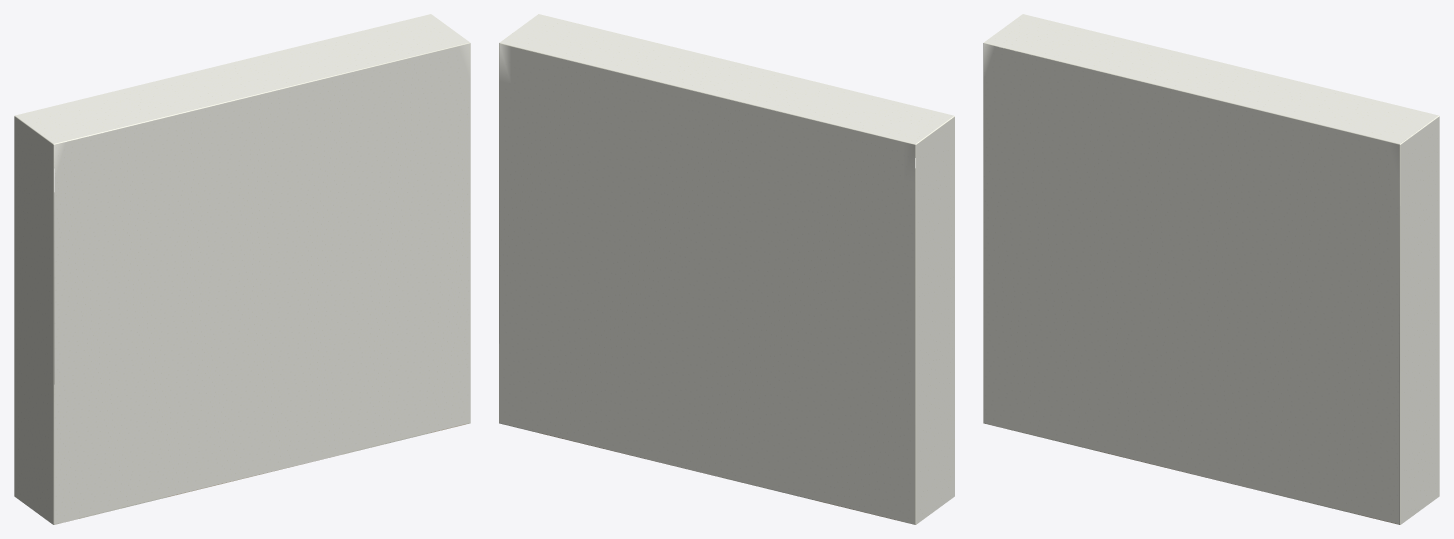
Rendered from lack_poka_scienna_50282177.glb.
3 renders of one model, left to right at view 1: azimuth 30°, elevation 25°; view 2: azimuth 150°, elevation 25°; view 3: azimuth 330°, elevation 25°, orthographic.
Parts seen in each view (by area): view 1: lack_poka_scienna_50282177; view 2: lack_poka_scienna_50282177; view 3: lack_poka_scienna_50282177.
Part boxes in pixels (box(x1,y1,x2,y2)): lack_poka_scienna_50282177: box(14, 14, 470, 524); lack_poka_scienna_50282177: box(499, 14, 954, 524); lack_poka_scienna_50282177: box(983, 14, 1439, 524).
Bounding box in the file's own units: 0.2983 × 0.26 × 0.049.
Materials: 1 (1 with a texture image).
